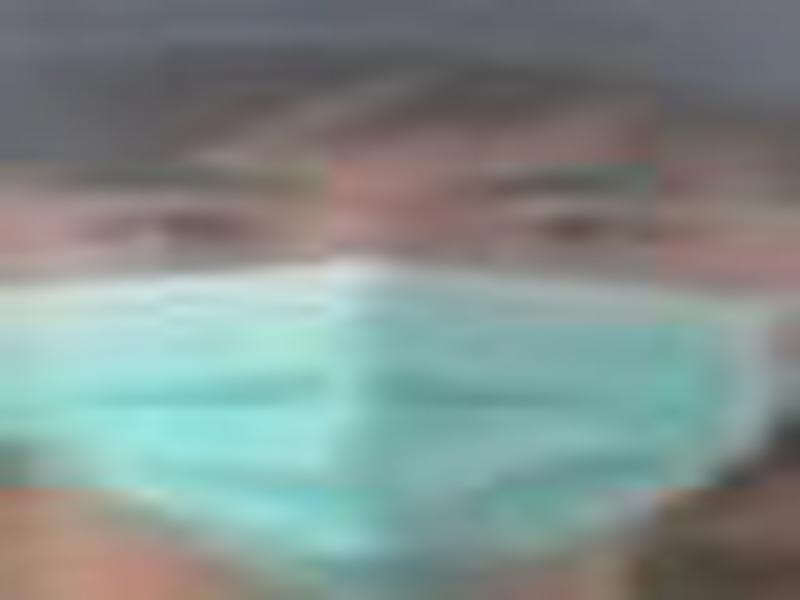with_mask: (1, 94, 796, 600)
